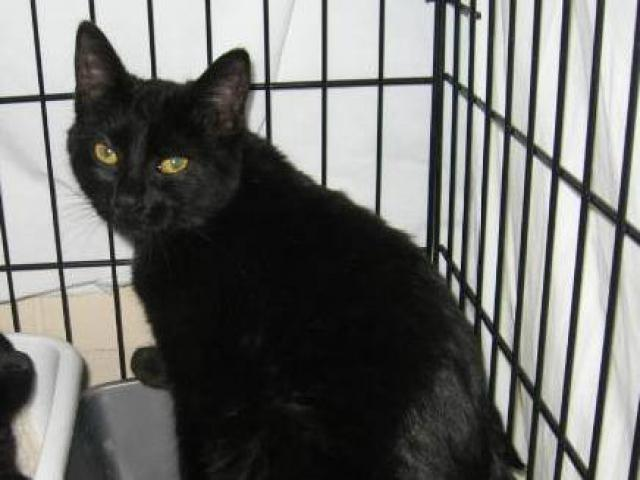cat: (58, 30, 550, 478)
